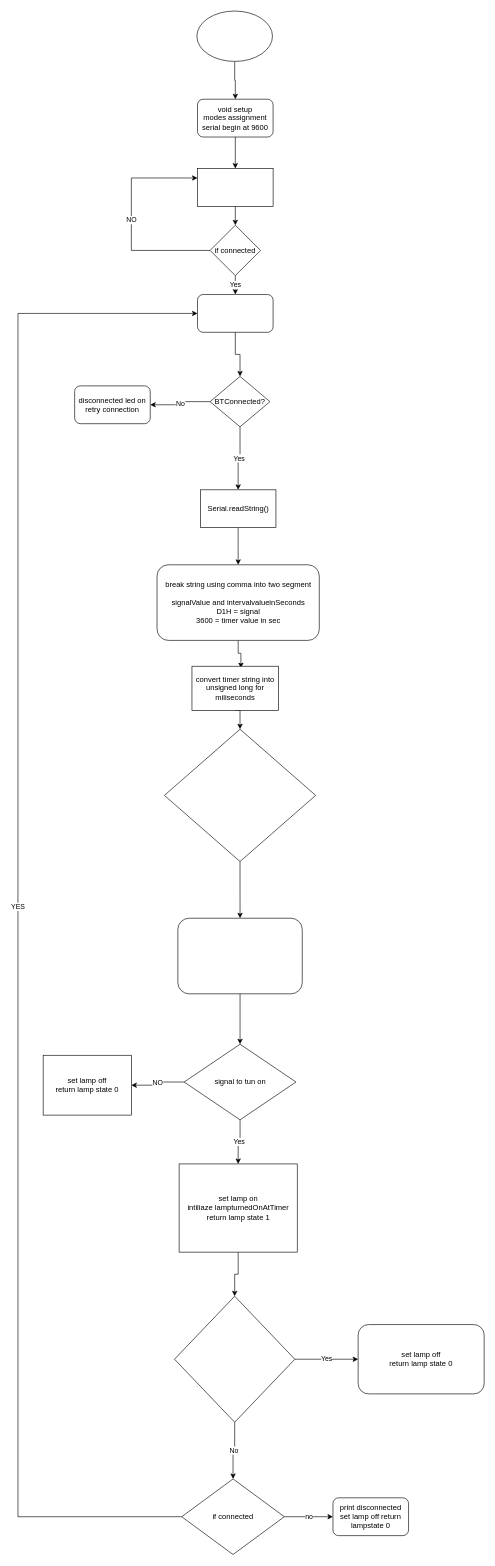
Some shapes in this 495 by 1566 pixel diagram are drawn without their labels. The shapes that lost their labels are listed below. From the top down, each one's centre as x and y in pixels, then its label:
At [234,35]: "start pins and variable declaration".
At [235,187]: "while bt is not connected".
At [235,313]: "void loop intializes current millis".
At [240,795]: "if signal is for turn on lamp intiaites the buttonPressedAr timer".
At [239,956]: "switch case on signal value".
At [234,1359]: "currentMilis-buttonPushedAt >= Timer interval in ms".
